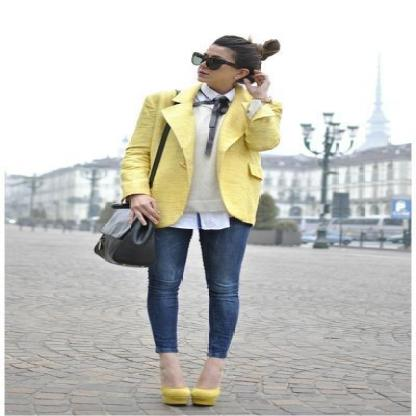bag: (93, 125, 170, 274)
jacket: (120, 86, 282, 224)
pants: (146, 214, 254, 357)
shirt: (172, 82, 233, 240)
shoe: (159, 382, 220, 405)
sunglass: (192, 52, 227, 69)
